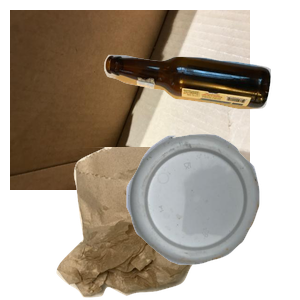cardboard: (10, 10, 250, 190)
glass: (101, 52, 300, 154)
plastic: (124, 132, 300, 300)
trash: (54, 147, 271, 300)
